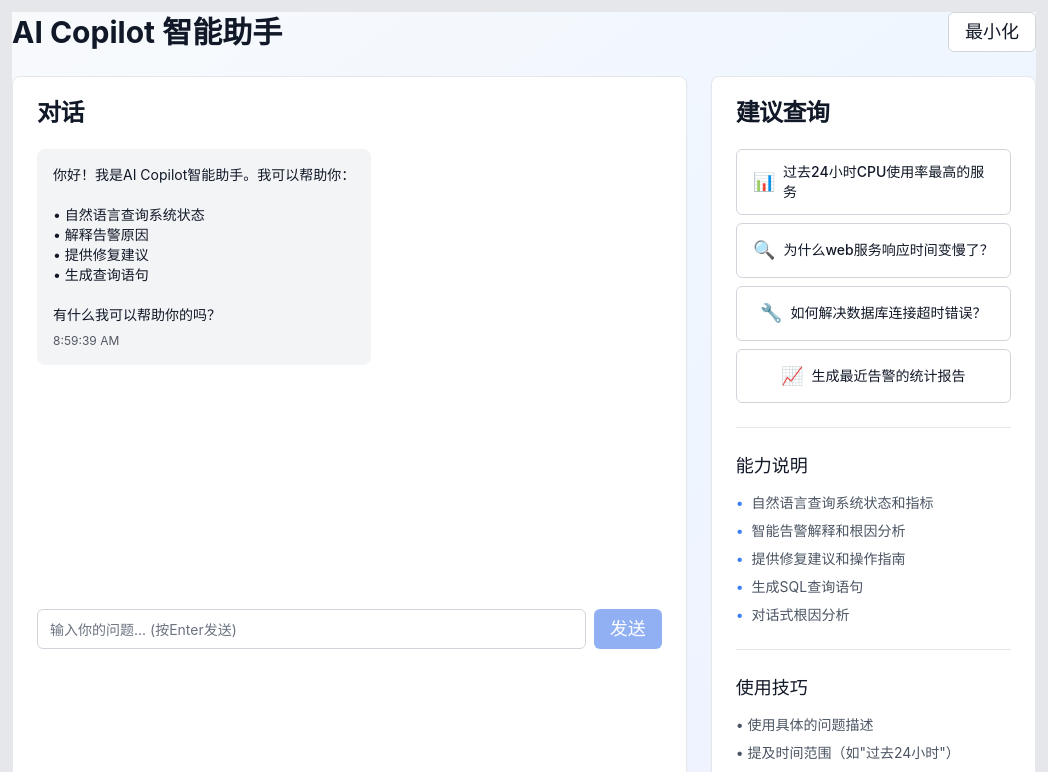
Test: AICopilotPage › Send Button State › should enable send button when input has text
This screenshot has width=1048, height=772.
Type "Test" into the field with placeholder "输入你的问题... (按Enter发送)" at (311, 629), box [37,609,586,649]
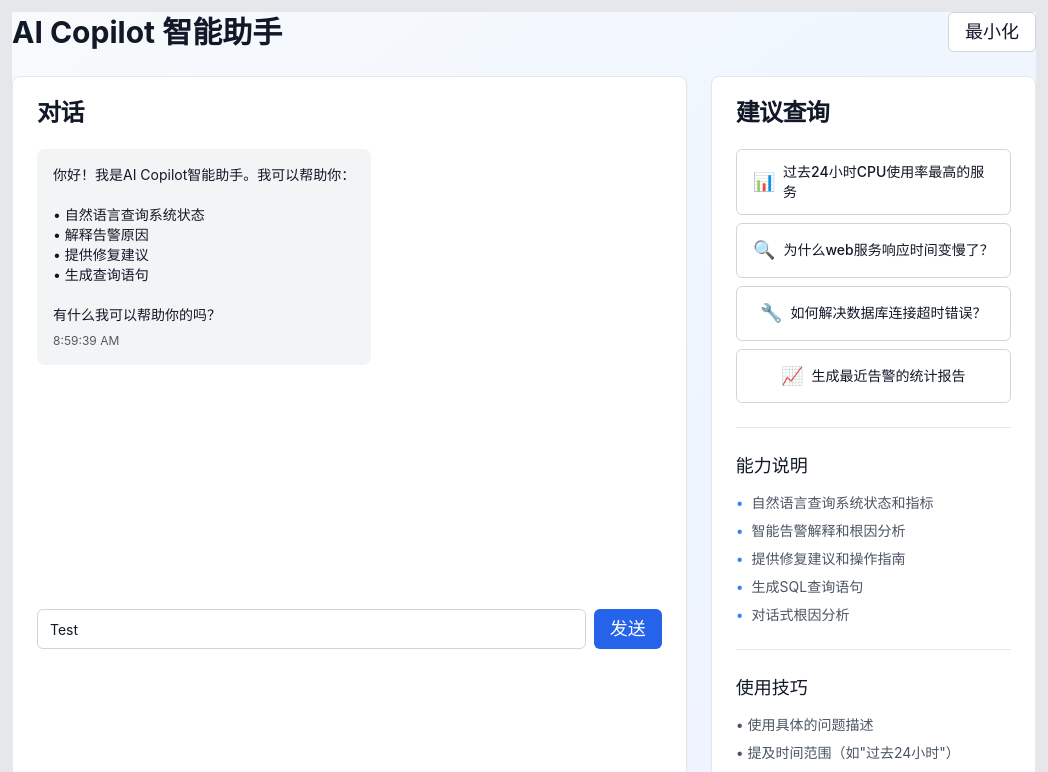
Result: the button "发送" is enabled at [594,609,662,649]
